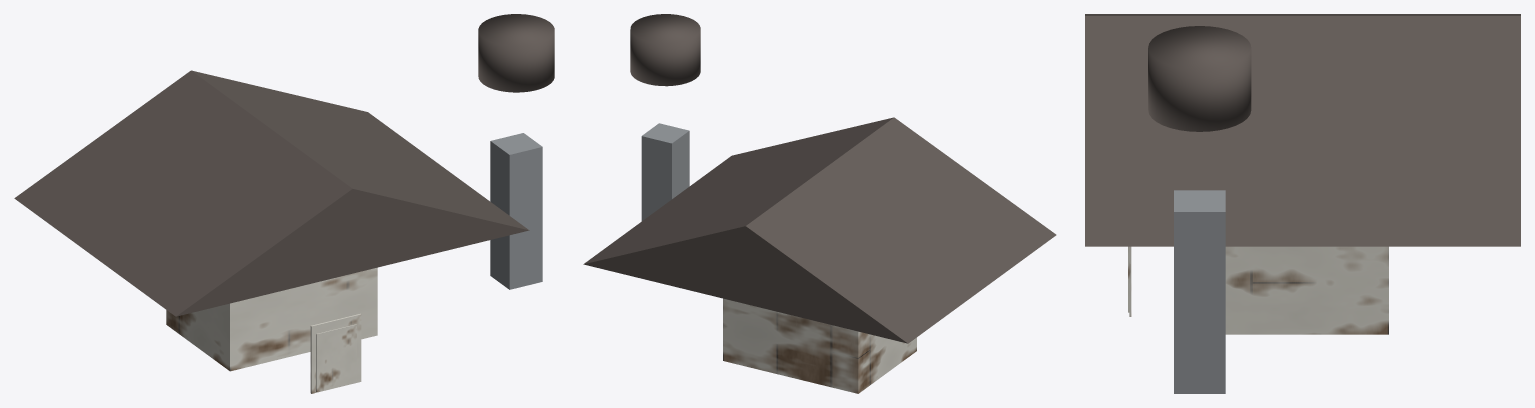
File: barn.glb
3 renders of one model, left to right at view 1: azimuth 30°, elevation 25°; view 2: azimuth 150°, elevation 25°; view 3: azimuth 270°, elevation 25°, orthographic. The views are drawn at different scales.
Visible parts, largest first — view 1: Barn_Roof, Barn_Body, Barn_Silo, Barn_SiloTop, Barn_Door, Barn_DoorFrame; view 2: Barn_Roof, Barn_Body, Barn_SiloTop, Barn_Silo; view 3: Barn_Roof, Barn_Body, Barn_Silo, Barn_SiloTop.
Boxes of the visible parts, box(x1,y1,x2,y2) form: Barn_Roof: box(14, 70, 529, 316); Barn_Body: box(166, 267, 377, 371); Barn_Silo: box(490, 133, 542, 289); Barn_SiloTop: box(478, 14, 554, 92); Barn_Door: box(316, 324, 356, 391); Barn_DoorFrame: box(310, 313, 361, 393); Barn_Roof: box(583, 117, 1056, 343); Barn_Body: box(723, 298, 916, 393); Barn_SiloTop: box(630, 14, 700, 86); Barn_Silo: box(641, 123, 689, 220); Barn_Roof: box(1085, 14, 1520, 246); Barn_Body: box(1225, 246, 1388, 334); Barn_Silo: box(1174, 190, 1225, 393); Barn_SiloTop: box(1148, 26, 1251, 131).
Bounding box in the file's own units: 11.3 × 7.47 × 7.6.
3 materials, 1 textured.
